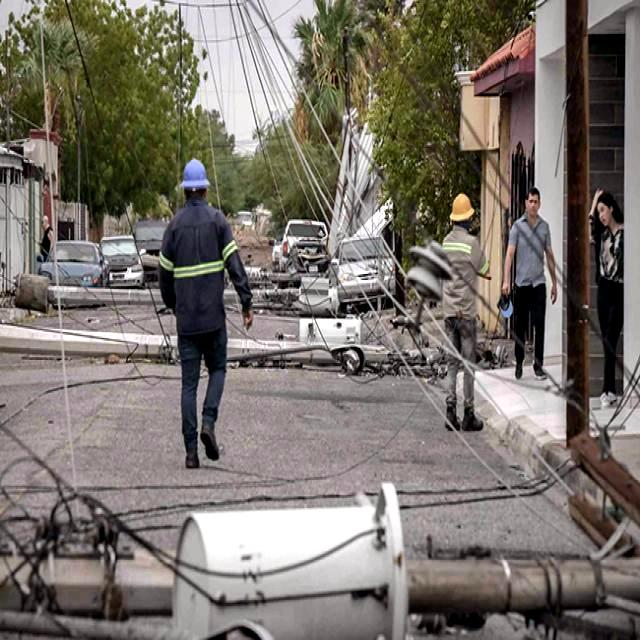Broken Pole: (4, 426, 637, 640), (0, 322, 448, 377)
